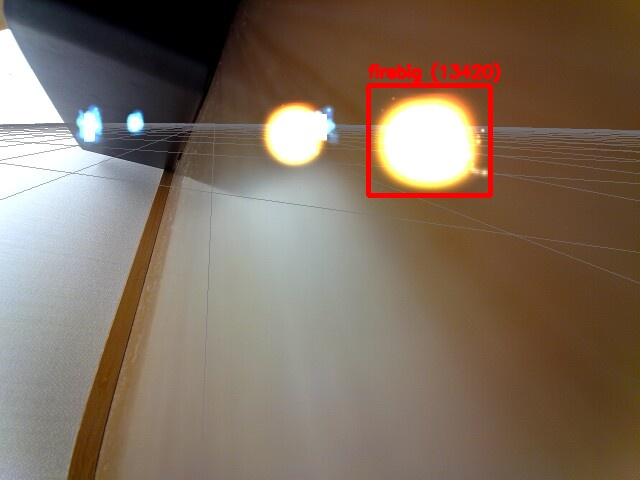firebig: (368, 85, 490, 195)
